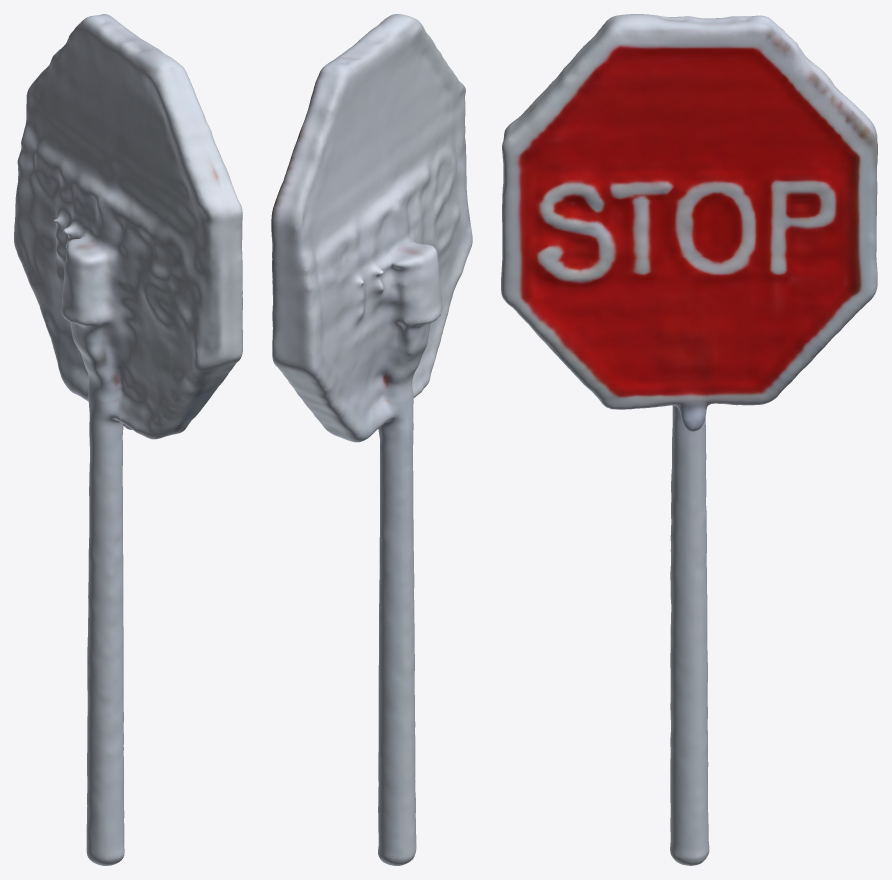
Rendered from senal.glb.
3 views of the same model, side by side, from view 1: azimuth 30°, elevation 25°; view 2: azimuth 150°, elevation 25°; view 3: azimuth 270°, elevation 25° (orthographic). The views are drawn at different scales.
Parts seen in each view (by area): view 1: high_poly_0; view 2: high_poly_0; view 3: high_poly_0.
Boxes of the visible parts, x1,y1,x2,y2 form: high_poly_0: (14, 14, 242, 865); high_poly_0: (271, 14, 472, 865); high_poly_0: (501, 14, 877, 865).
Size of the model in its own units: 0.1167 by 1 by 0.3965.
Materials: 1 (1 with a texture image).
